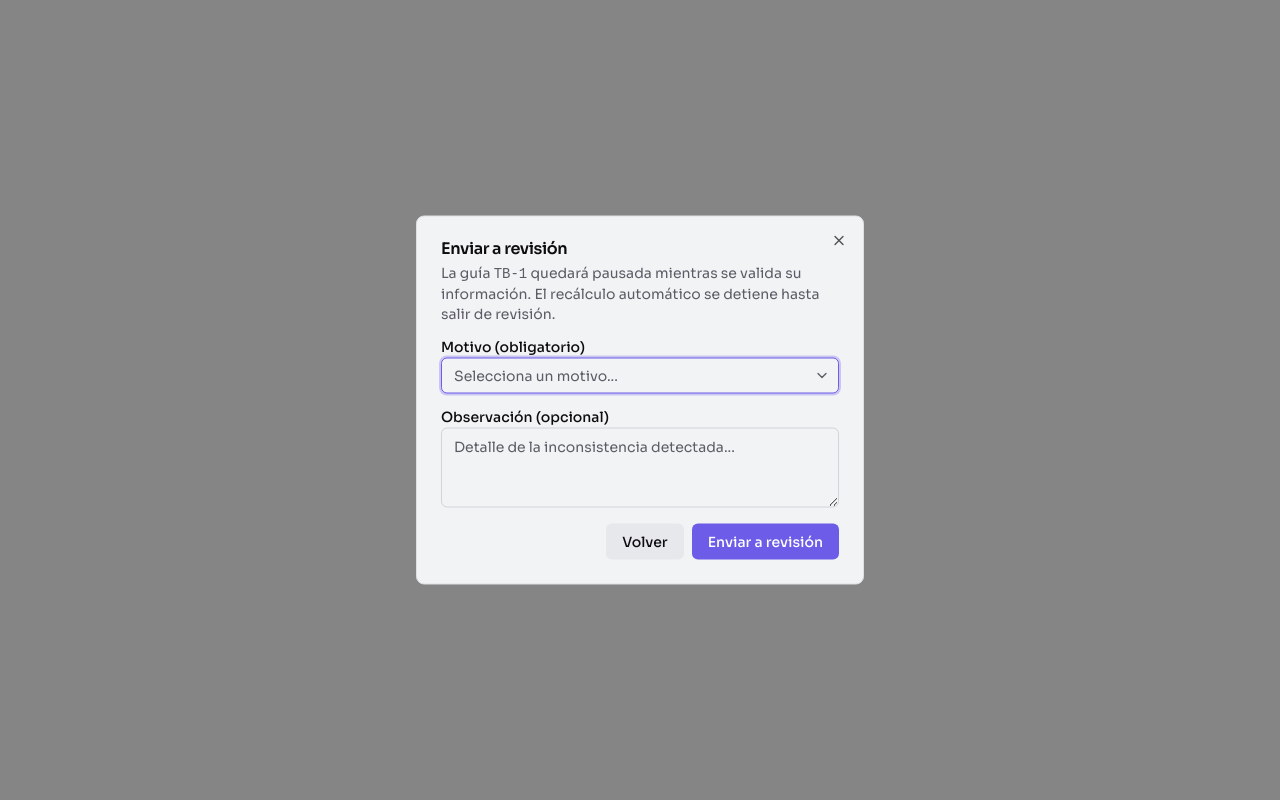
Scenario: EnviarARevisionDialog › exige seleccionar un motivo antes de enviar
The width and height of the screenshot is (1280, 800).
Click the button "Enviar a revisión" at (765, 542), box [692,524,839,560]
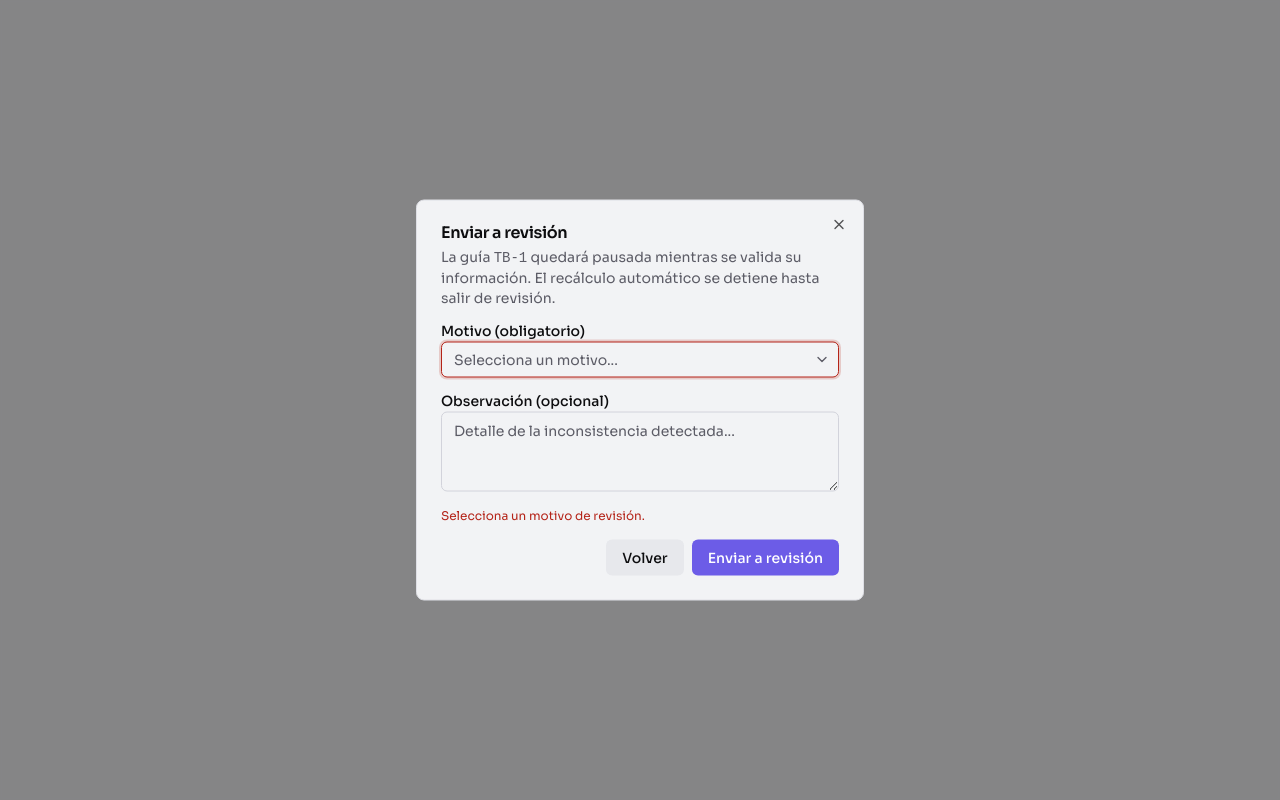
Expected: the text "Selecciona un motivo de revisión." is shown, [441,508,645,522]
